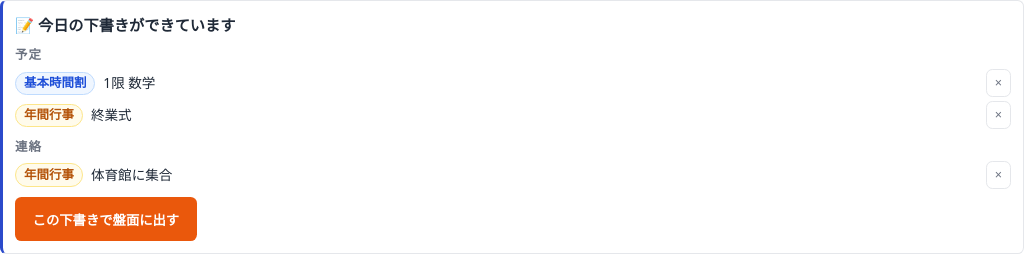
Test: MorningDraftCard（朝ドラフト確定カード） › 全項目を除外すると確定ボタンが無効（空確定をUIで防ぐ）
The image size is (1024, 271).
Step 1. Click the button named "「1限 数学」を除外" → (998,83), box [986,69,1011,97]
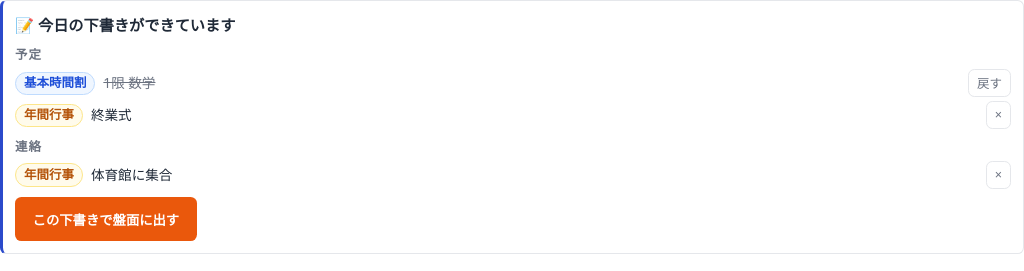
Step 2. Click the button named "「終業式」を除外" → (998,115), box [986,101,1011,129]
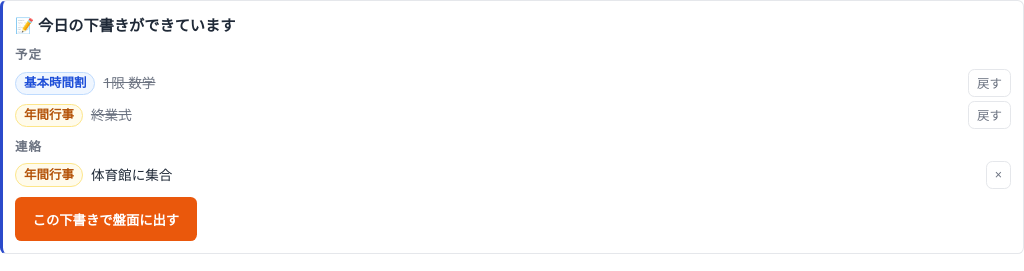
Step 3. Click the button named "「体育館に集合」を除外" → (998,175), box [986,161,1011,189]
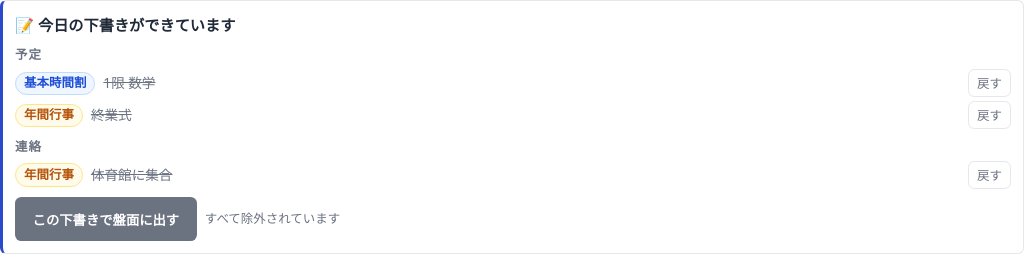
Now the text "すべて除外されています" is shown, box [205,209,340,229]
Now the button "この下書きで盤面に出す" is disabled, box [15,197,197,241]
